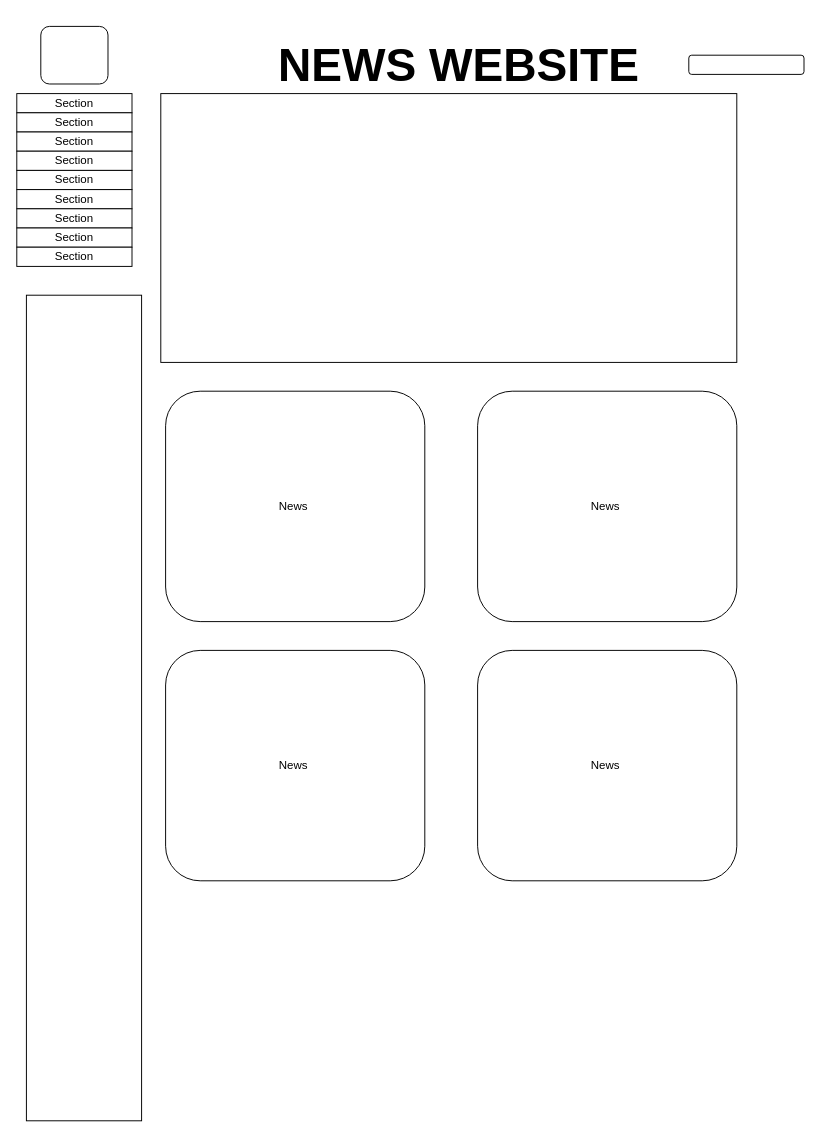
Some shapes in this 821 by 1138 pixel diagram are drawn without their labels. The centre of each missing label's shape, as x and y in pixels:
"ads" goes at point 83,707.
"Breaking News" goes at point 448,227.
"logo" goes at point 74,54.
"Search" goes at point 746,64.
